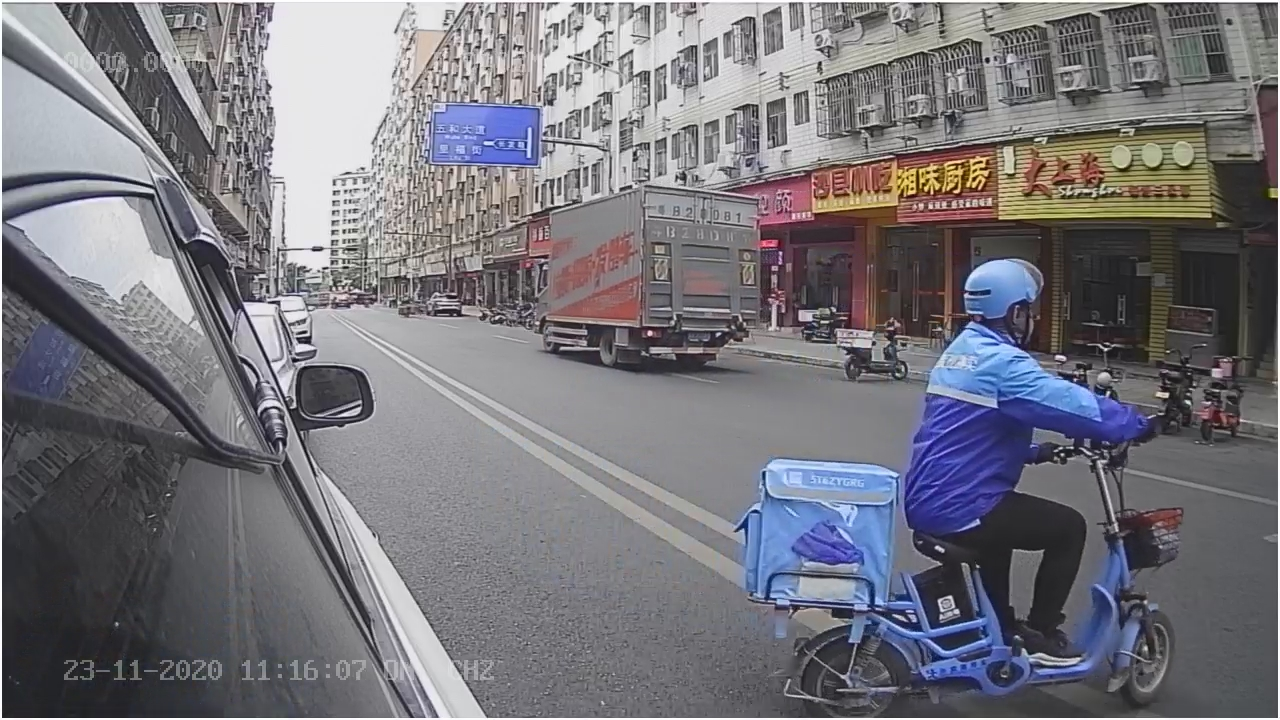person: (905, 249, 1157, 425)
